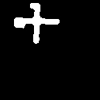single_crochet: (14, 3, 58, 43)
